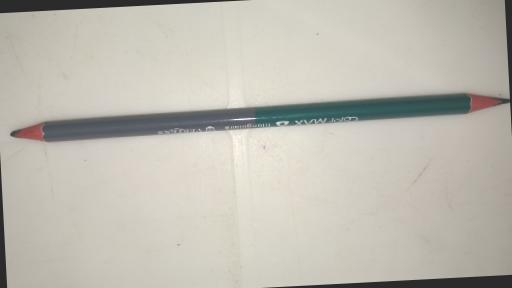Pencil: (9, 92, 511, 144)
